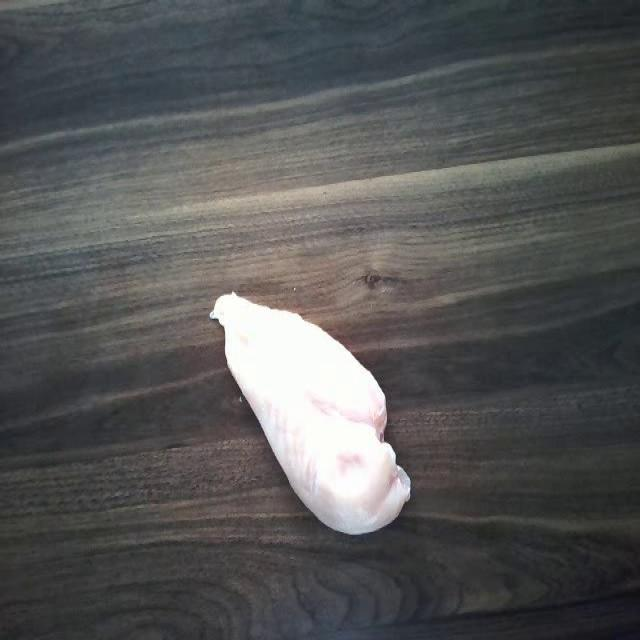breast: (208, 290, 406, 538)
